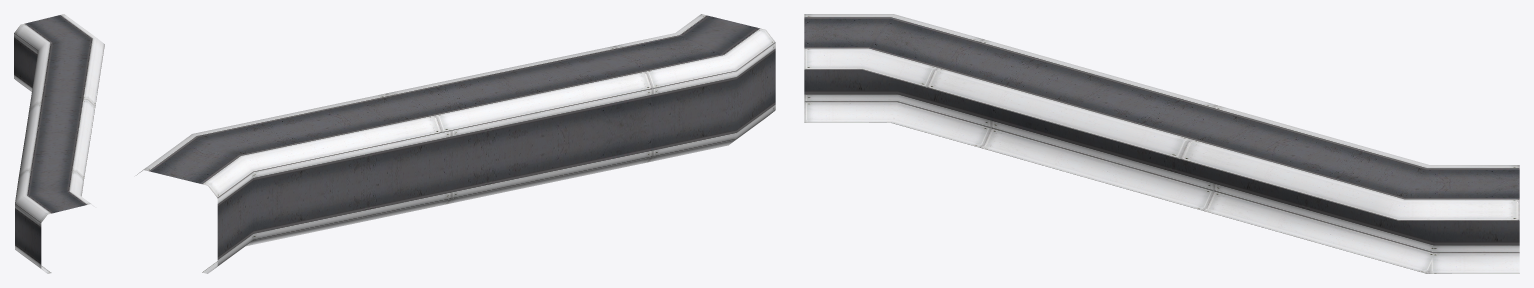
Rendered from GroundTrimCapAngle.FBX.
3 renders of one model, left to right at view 1: azimuth 30°, elevation 25°; view 2: azimuth 150°, elevation 25°; view 3: azimuth 270°, elevation 25°, orthographic. The views are drawn at different scales.
Parts seen in each view (by area): view 1: GroundTrimCapAngle; view 2: GroundTrimCapAngle; view 3: GroundTrimCapAngle.
Boxes of the visible parts, box(x1,y1,x2,y2) form: GroundTrimCapAngle: box(14, 14, 104, 273); GroundTrimCapAngle: box(136, 14, 775, 273); GroundTrimCapAngle: box(804, 14, 1519, 273).
Size of the model in its own units: 5.3 by 1.3 by 8.01.
